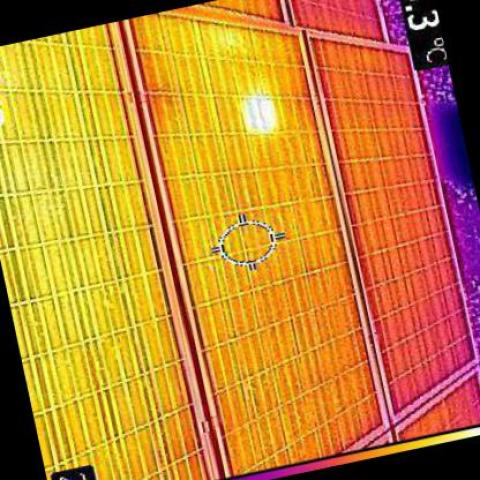fault: (242, 96, 271, 132)
